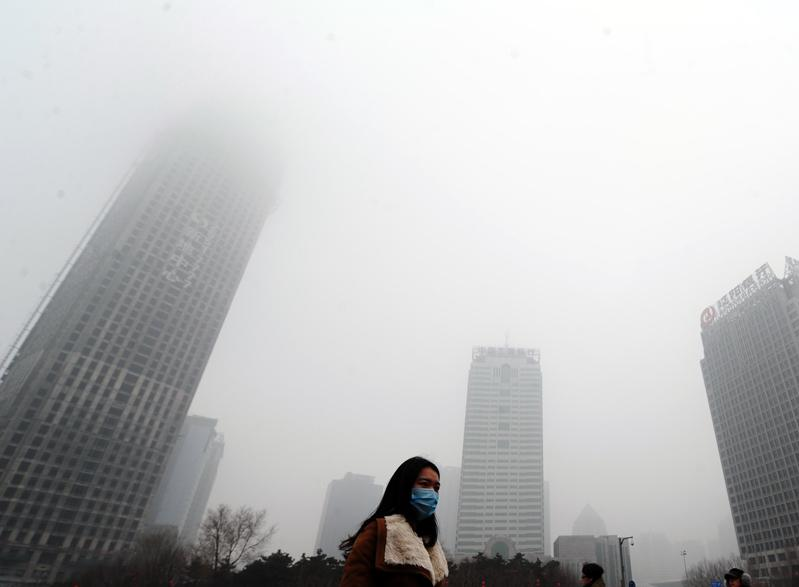person: (338, 454, 451, 587)
